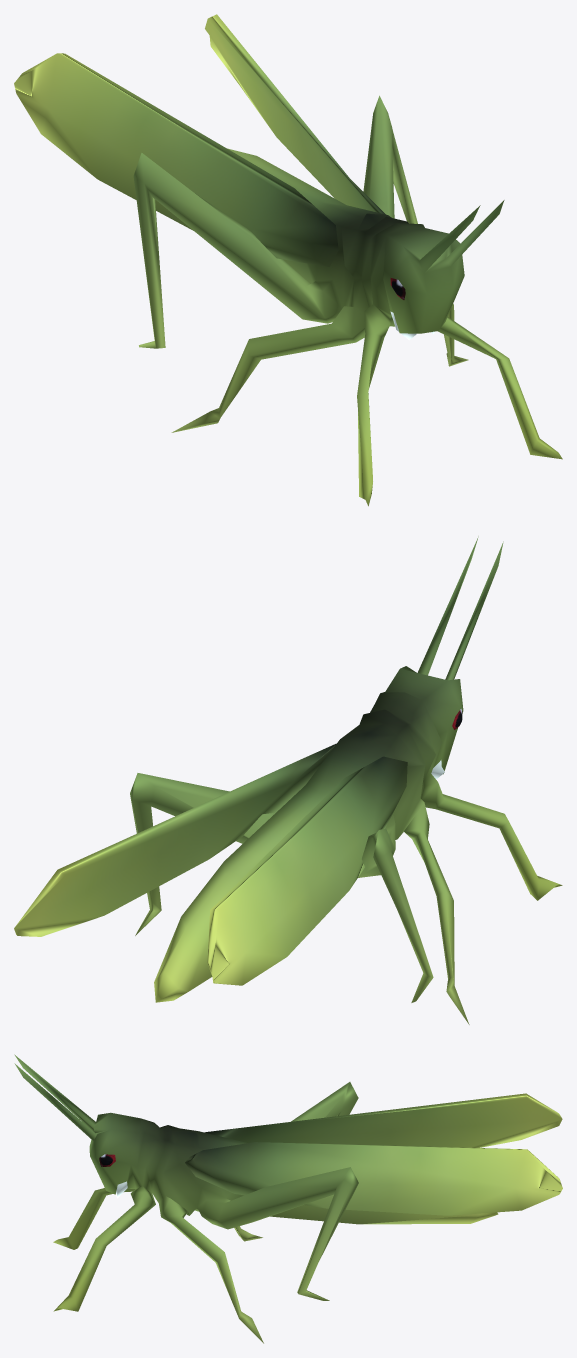
The model's file is GrassHopper.glb.
3 views of the same model, one above another, from view 1: azimuth 30°, elevation 25°; view 2: azimuth 150°, elevation 25°; view 3: azimuth 270°, elevation 25° (orthographic). The views are drawn at different scales.
Visible parts, largest first — view 1: GrassHopper; view 2: GrassHopper; view 3: GrassHopper.
Boxes of the visible parts, x1=… form: GrassHopper: x1=14, y1=14, x2=562, y2=506; GrassHopper: x1=14, y1=536, x2=562, y2=1024; GrassHopper: x1=14, y1=1054, x2=562, y2=1343.
Size of the model in its own units: 0.255 by 0.261 by 0.5579.
Materials: 2 (2 with a texture image).
